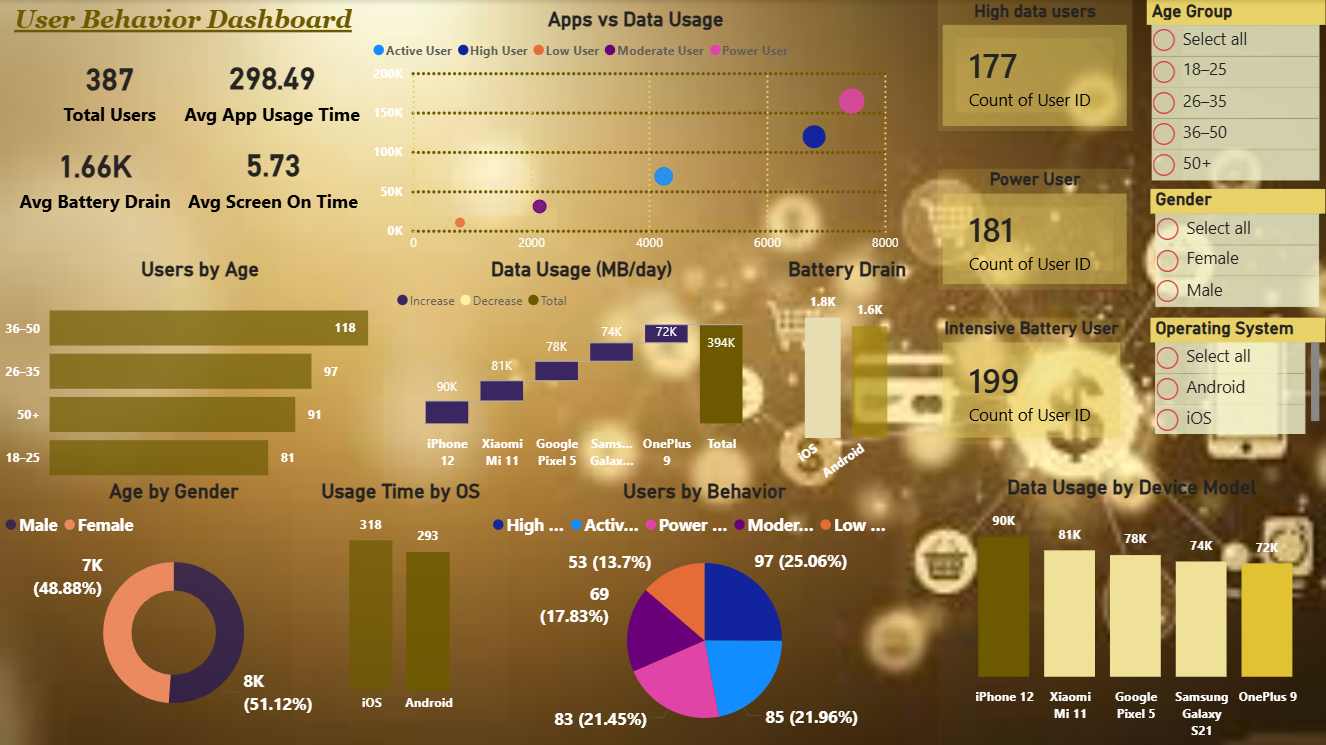

The dashboard page shown, as its layout file describes it:
{"tool":"powerbi","page":{"name":"Page 1","canvas":[1280,720],"ordinal":0},"visuals":[{"type":"textbox","box":[9.6,0,341.7,63.1],"z":0},{"type":"card","fields":{"Values":["user_behavior_dataset.Total Users"]},"box":[0,26.1,214.1,119.4],"z":1000},{"type":"card","fields":{"Values":["user_behavior_dataset.Avg App Usage Time"]},"box":[172.9,41.2,182.5,89.2],"z":2000},{"type":"card","fields":{"Values":["user_behavior_dataset.Avg Screen On Time"]},"box":[141.3,118,247,102.9],"z":3000},{"type":"card","fields":{"Values":["user_behavior_dataset.Avg Battery Drain"]},"box":[13.7,109.8,159.2,120.8],"z":4000},{"type":"barChart","title":"Users by Age ","fields":{"Category":["user_behavior_dataset.Age Group"],"Y":["user_behavior_dataset.Total Users"]},"box":[0,248.4,388.3,233.3],"z":5000},{"type":"donutChart","title":" Age by Gender","fields":{"Category":["user_behavior_dataset.Gender"],"Y":["Sum(user_behavior_dataset.Age)"]},"box":[0,463.8,337.6,241.5],"z":6000},{"type":"pieChart","title":"Users by Behavior ","fields":{"Category":["user_behavior_dataset.Behaviour Label"],"Y":["CountNonNull(user_behavior_dataset.User ID)"]},"box":[470.7,463.8,421.3,256.6],"z":7000},{"type":"clusteredColumnChart","title":"Usage Time by OS","fields":{"Category":["user_behavior_dataset.Operating System"],"Y":["user_behavior_dataset.Avg App Usage Time"]},"box":[284,463.8,208.6,233.3],"z":8000},{"type":"lineClusteredColumnComboChart","title":"Data Usage by Device Model","fields":{"Category":["user_behavior_dataset.Device Model"],"Y":["Sum(user_behavior_dataset.Data Usage (MB/day))"]},"box":[905.7,459.7,374.6,260.7],"z":9000},{"type":"columnChart","title":"Battery Drain ","fields":{"Category":["user_behavior_dataset.Operating System"],"Y":["user_behavior_dataset.Avg Battery Drain"]},"box":[732.8,248.4,172.9,233.3],"z":10000},{"type":"waterfallChart","title":"Data Usage (MB/day) ","fields":{"Y":["Sum(user_behavior_dataset.Data Usage (MB/day))"],"Category":["user_behavior_dataset.Device Model"]},"box":[378.7,248.4,366.4,211.3],"z":11000},{"type":"listSlicer","fields":{"Values":["user_behavior_dataset.Operating System"]},"box":[1111.5,306,168.8,118],"z":12000},{"type":"listSlicer","fields":{"Values":["user_behavior_dataset.Gender"]},"box":[1111.5,182.5,168.8,130.4],"z":13000},{"type":"listSlicer","fields":{"Values":["user_behavior_dataset.Age Group"]},"box":[1107.4,0,172.9,192.1],"z":14000},{"type":"scatterChart","title":"Apps vs Data Usage","fields":{"X":["Sum(user_behavior_dataset.Number of Apps Installed)"],"Y":["Sum(user_behavior_dataset.Data Usage (MB/day))"],"Size":["Sum(user_behavior_dataset.Screen On Time (hours/day))"],"Series":["user_behavior_dataset.Behaviour Label"]},"box":[355.4,6.9,517.3,245.6],"z":15000},{"type":"cardVisual","title":"High data users","fields":{"Data":["CountNonNull(user_behavior_dataset.User ID)"]},"box":[905.7,0,188,126.2],"z":16000},{"type":"cardVisual","title":"Power User","fields":{"Data":["CountNonNull(user_behavior_dataset.User ID)"]},"box":[905.7,163.3,188,116.6],"z":17000},{"type":"cardVisual","title":"Intensive Battery User","fields":{"Data":["CountNonNull(user_behavior_dataset.User ID)"]},"box":[905.7,306,181.1,122.1],"z":18000}]}

Visuals, with their boxes in screenshot pixels (x1, y1, x2, y2), scaled from the page's 1280x720 canvas onto the 1326x745 screenshot:
textbox: x1=10 y1=0 x2=364 y2=65
card - user_behavior_dataset.Total Users: x1=0 y1=27 x2=222 y2=151
card - user_behavior_dataset.Avg App Usage Time: x1=179 y1=43 x2=368 y2=135
card - user_behavior_dataset.Avg Screen On Time: x1=146 y1=122 x2=402 y2=229
card - user_behavior_dataset.Avg Battery Drain: x1=14 y1=114 x2=179 y2=239
"Users by Age " barChart: x1=0 y1=257 x2=402 y2=498
" Age by Gender" donutChart: x1=0 y1=480 x2=350 y2=730
"Users by Behavior " pieChart: x1=488 y1=480 x2=924 y2=744
"Usage Time by OS" clusteredColumnChart: x1=294 y1=480 x2=510 y2=721
"Data Usage by Device Model" lineClusteredColumnComboChart: x1=938 y1=476 x2=1325 y2=744
"Battery Drain " columnChart: x1=759 y1=257 x2=938 y2=498
"Data Usage (MB/day) " waterfallChart: x1=392 y1=257 x2=772 y2=476
listSlicer - user_behavior_dataset.Operating System: x1=1151 y1=317 x2=1325 y2=439
listSlicer - user_behavior_dataset.Gender: x1=1151 y1=189 x2=1325 y2=324
listSlicer - user_behavior_dataset.Age Group: x1=1147 y1=0 x2=1325 y2=199
"Apps vs Data Usage" scatterChart: x1=368 y1=7 x2=904 y2=261
"High data users" cardVisual: x1=938 y1=0 x2=1133 y2=131
"Power User" cardVisual: x1=938 y1=169 x2=1133 y2=290
"Intensive Battery User" cardVisual: x1=938 y1=317 x2=1126 y2=443
